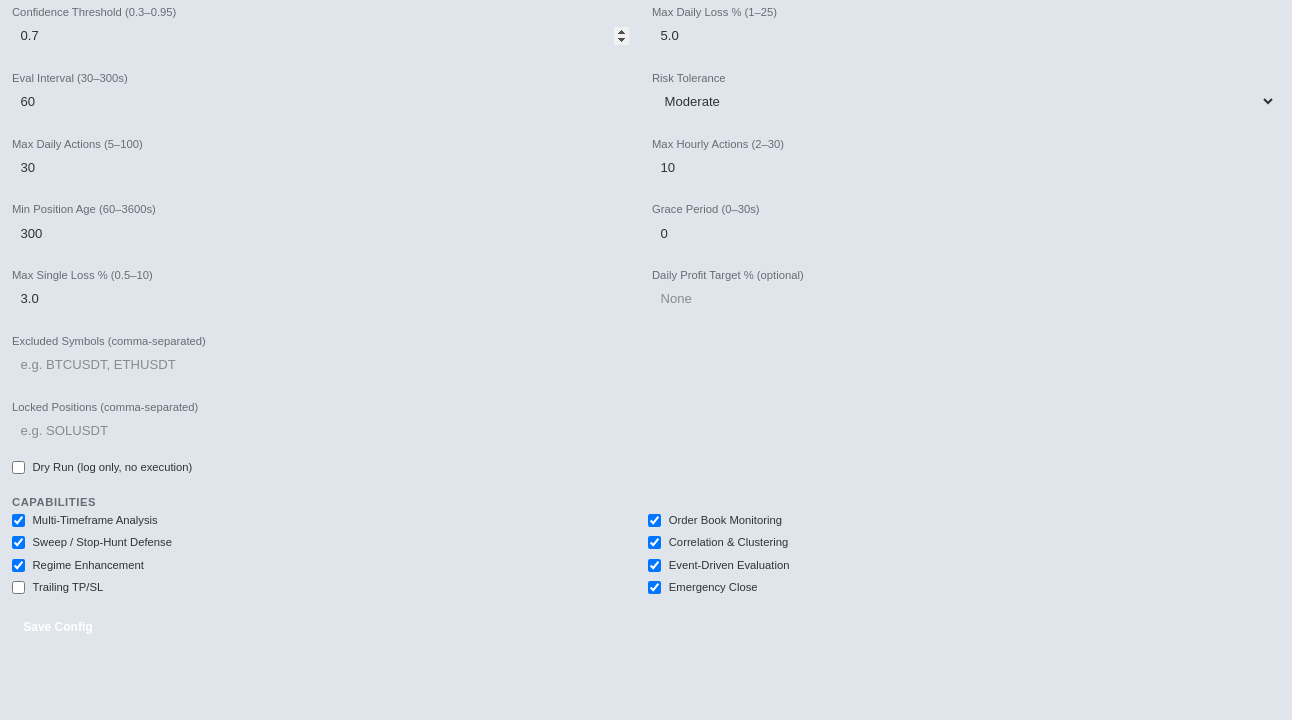
it: ConfigPanel validation › shows a crash-protection warning when emergency_close is disabled
Expected: the button "Save Config" is shown, x1=12 y1=610 x2=104 y2=644
Click the checkbox with test id "account-cap-emergency_close_enabled".
click(655, 588)  # box x1=648 y1=581 x2=661 y2=594
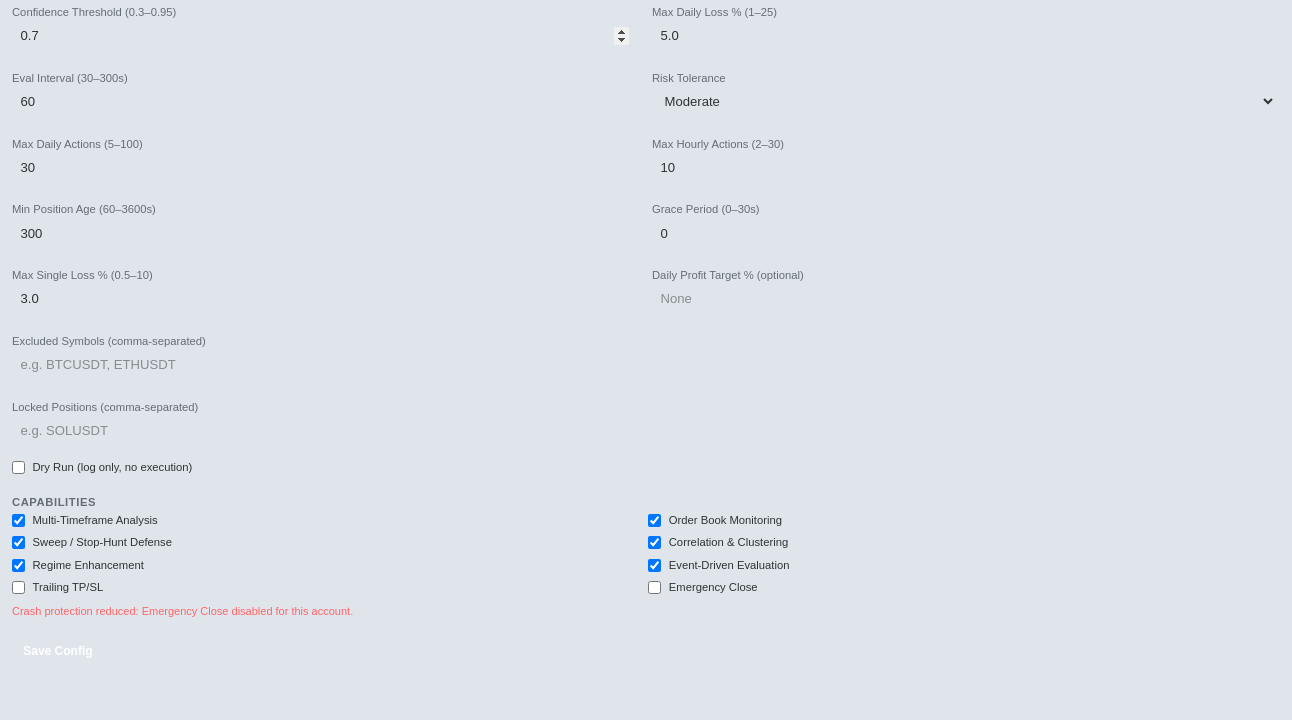
Expected: the text "Crash protection reduced" is shown, x1=12 y1=605 x2=142 y2=617
